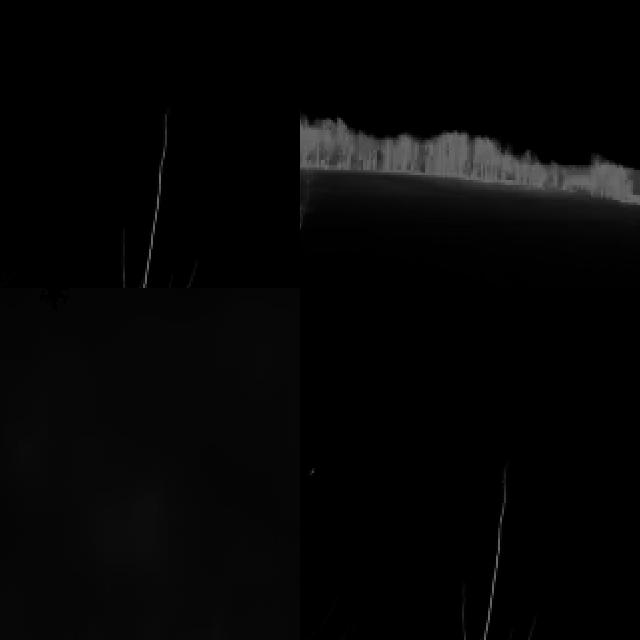0: (300, 457, 330, 490)
drone: (36, 288, 71, 316)
